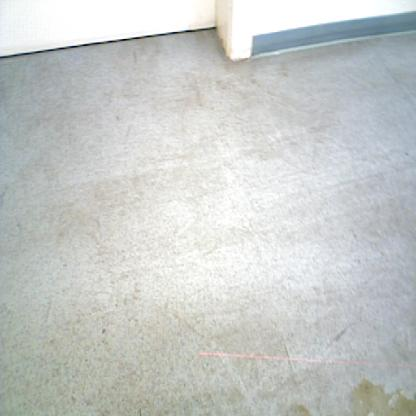liquid: (348, 377, 416, 416), (286, 403, 313, 416)
mark: (283, 342, 292, 371), (332, 327, 348, 343), (1, 184, 9, 209), (124, 123, 132, 142), (131, 48, 138, 66), (403, 150, 410, 159), (115, 114, 122, 123), (101, 326, 107, 335), (138, 407, 143, 416)
